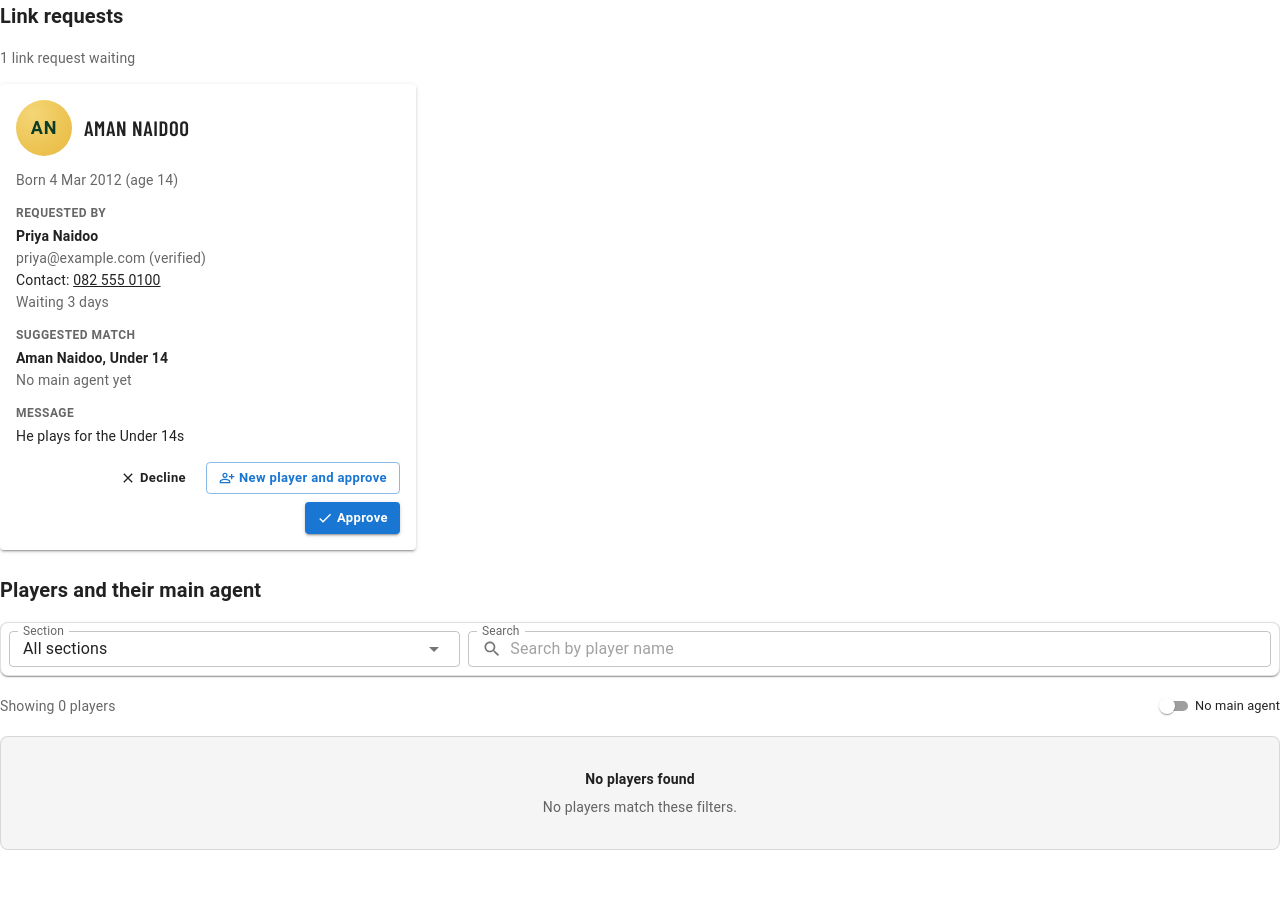
Test case: PlayerAccountsTab › approve › needs an explicit confirm step and then sends confirm: true with the suggested player
What coordinates should you click on to do the following:
click the button "Approve"
I would click on:
 (352, 518)
Its box is [305,502,400,534].
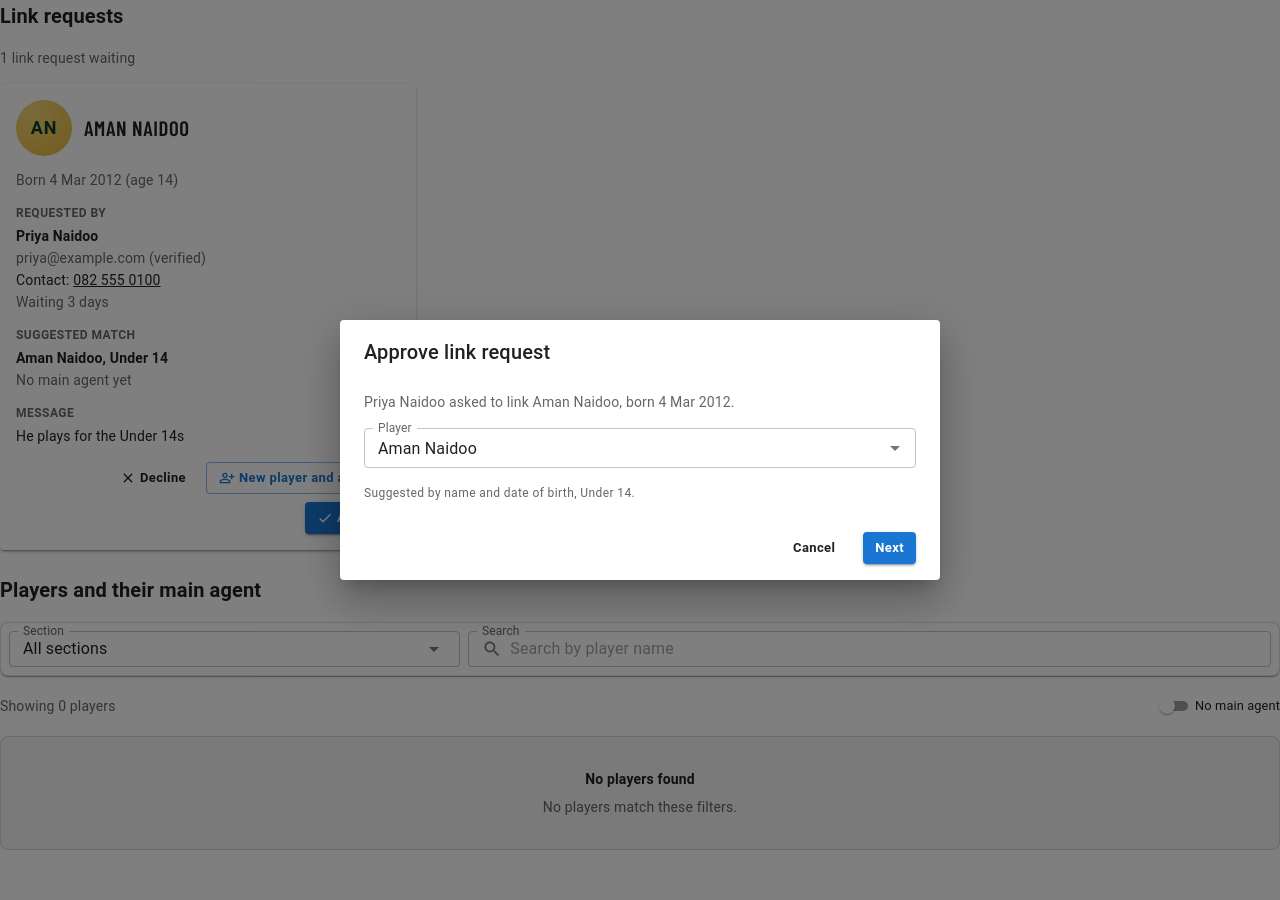
Check: the dropdown labelled "Player" holds "Aman Naidoo", box [370,434,851,462]
What coordinates should you click on to do the following:
click the button "Next"
I would click on:
 (890, 548)
Its box is [863,532,916,564].
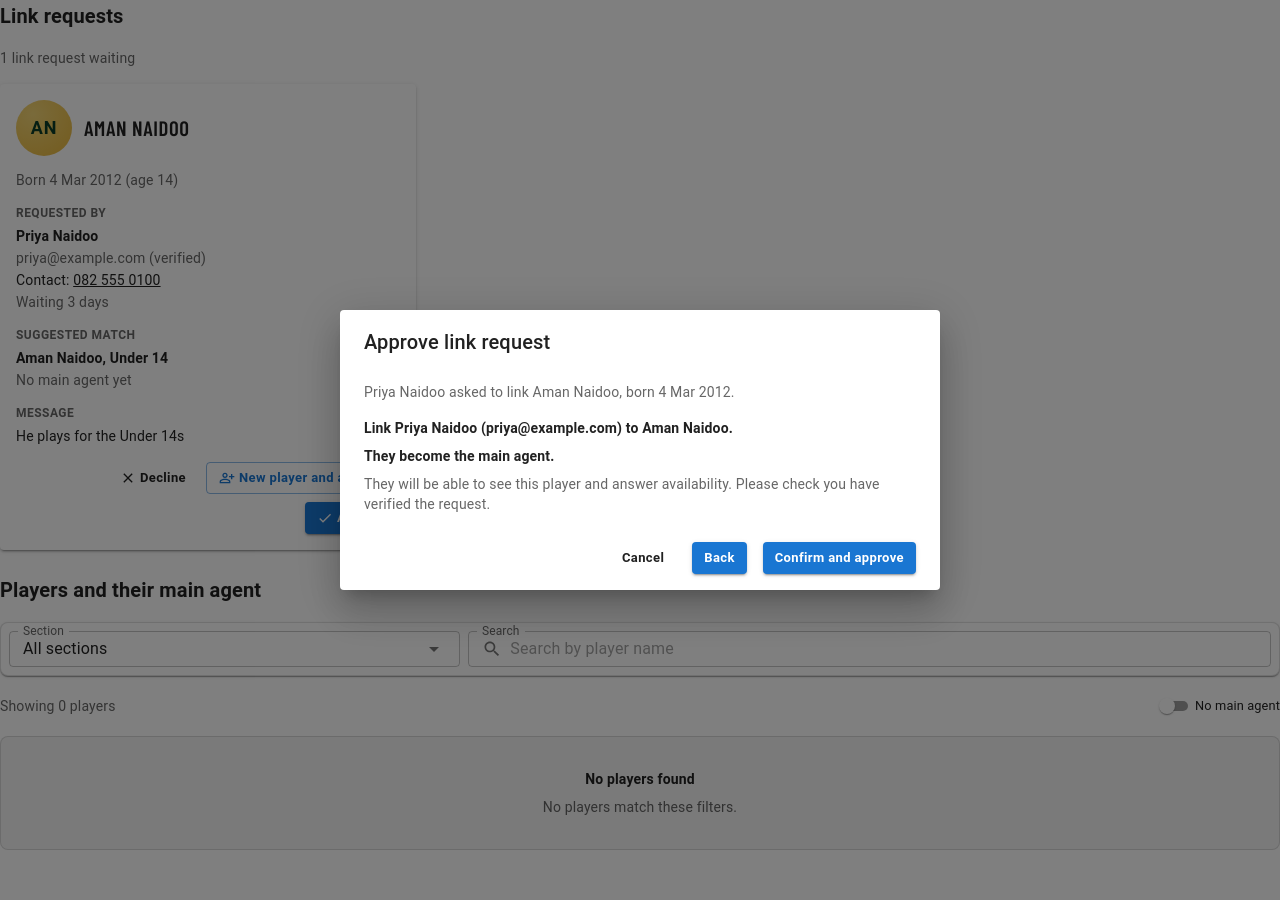
Check: the element named "Confirm approval" shows "Link Priya Naidoo (priya@example.com) to Aman Naidoo.", box [364,420,733,436]
Check: the element named "Confirm approval" shows "They become the main agent.", box [364,448,554,464]
What coordinates should you click on to do the following:
click the button "Confirm and approve"
I would click on:
 (839, 558)
Its box is [763,542,916,574].
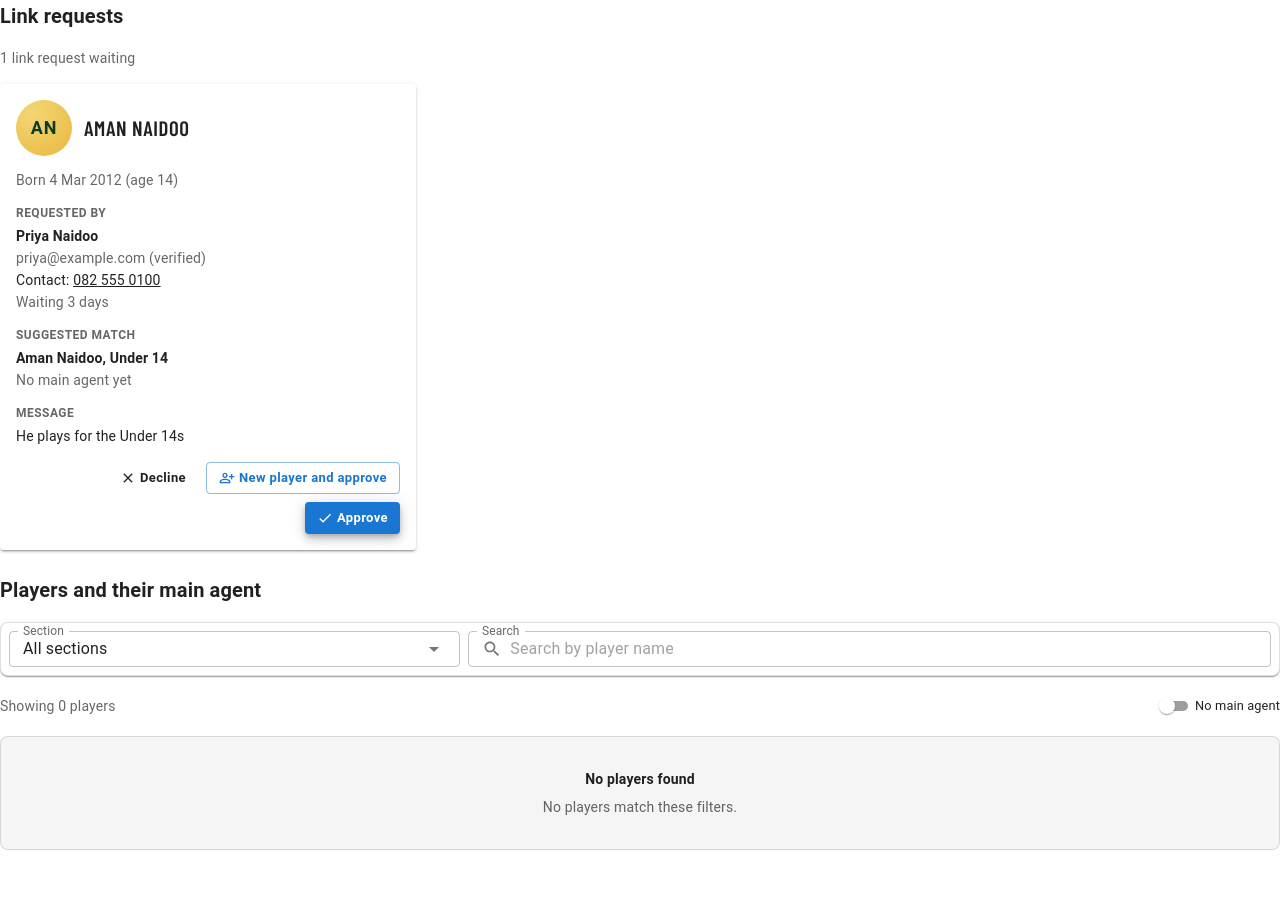
Check: the dialog is gone
